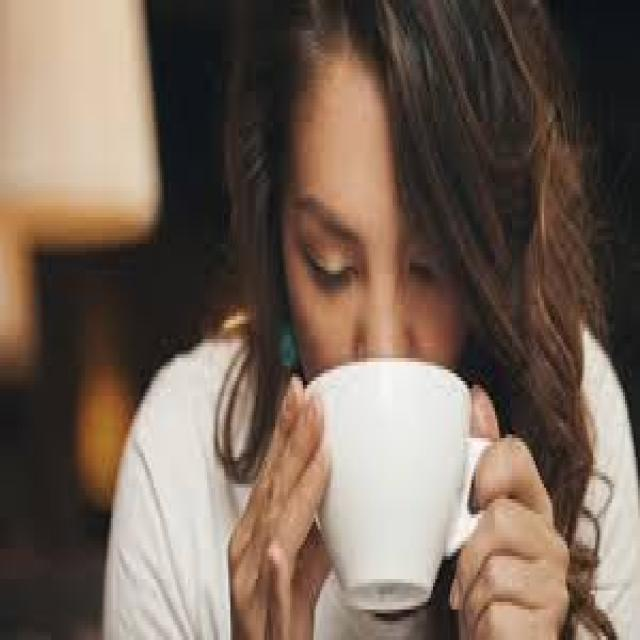taza: (269, 349, 515, 616)
